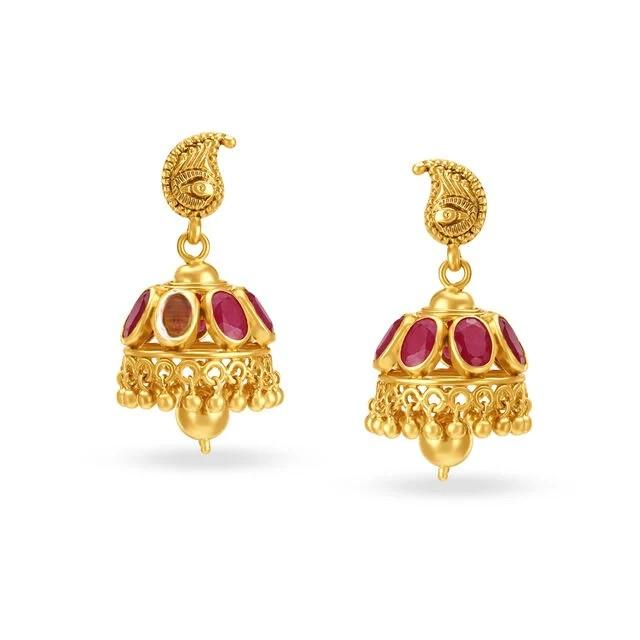missing gem: (163, 293, 191, 337)
